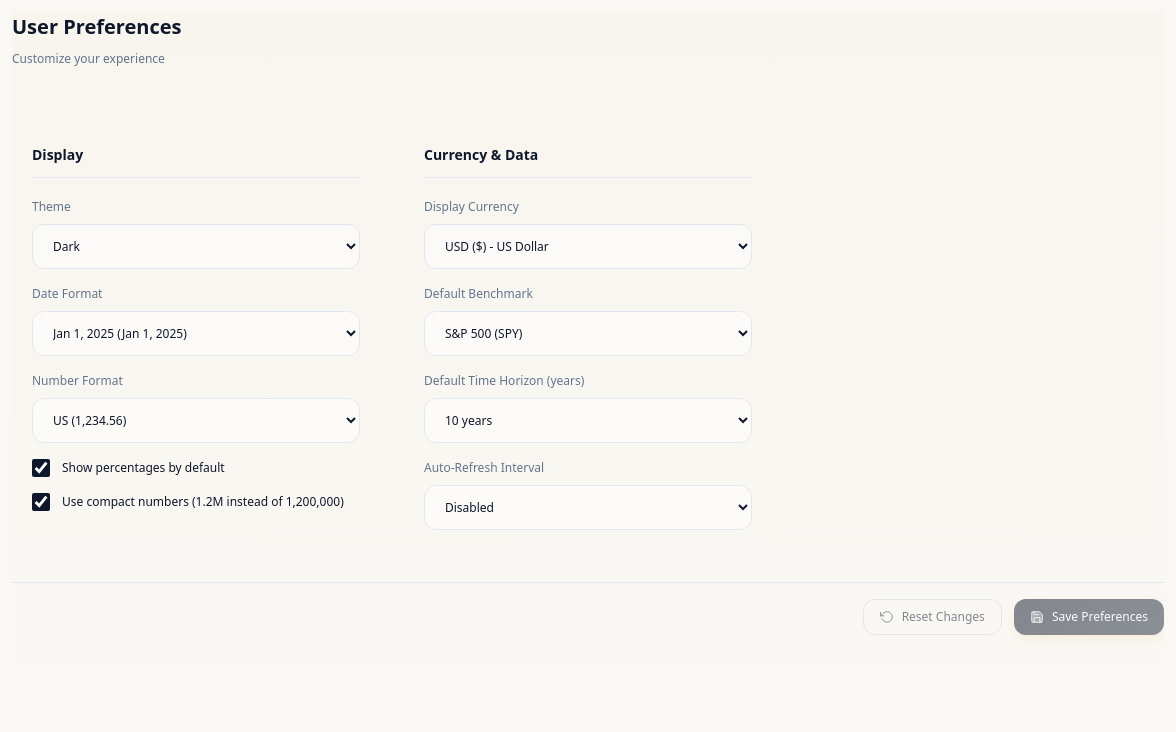
Test: PreferencesForm › shows exchange rate for non-USD currencies
Change to EUR
Step 1. Select "EUR (€) - Euro" in the dropdown labelled "Display Currency" → (588, 246), box [424,224,752,269]
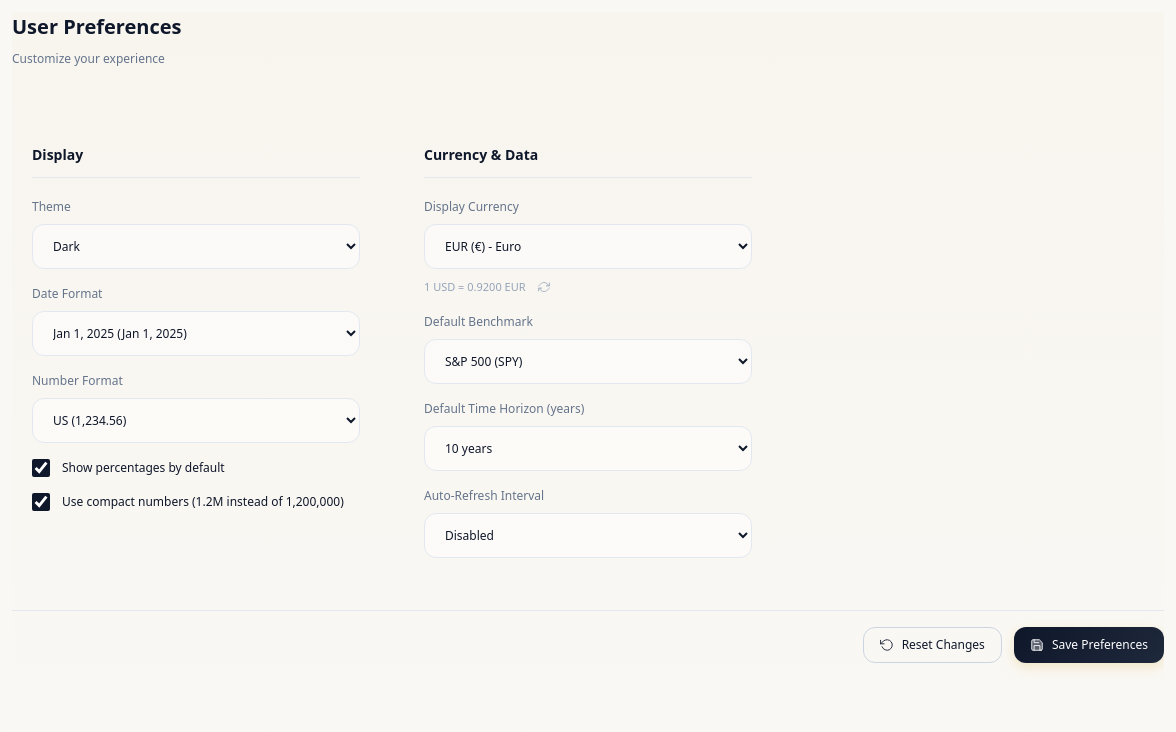
Result: the text "1 USD = 0.9200 EUR" is shown at [424,277,554,297]
